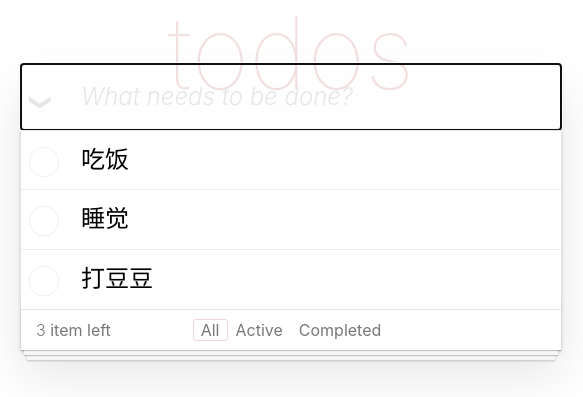
Test case: 删除所有已完成任务 › 如果所有任务未完成，清除按钮应该不展示，否则展示
Click the checkbox with test id "todo-done" next to "吃饭". click: [41, 160]
box: [21,131,61,189]
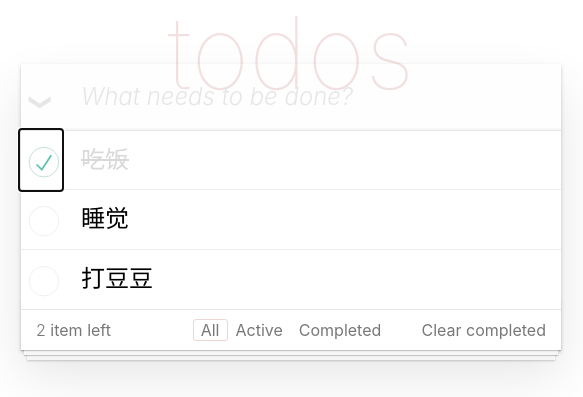
Expected: the button with test id "clear-completed" is shown, [422,320,546,340]
